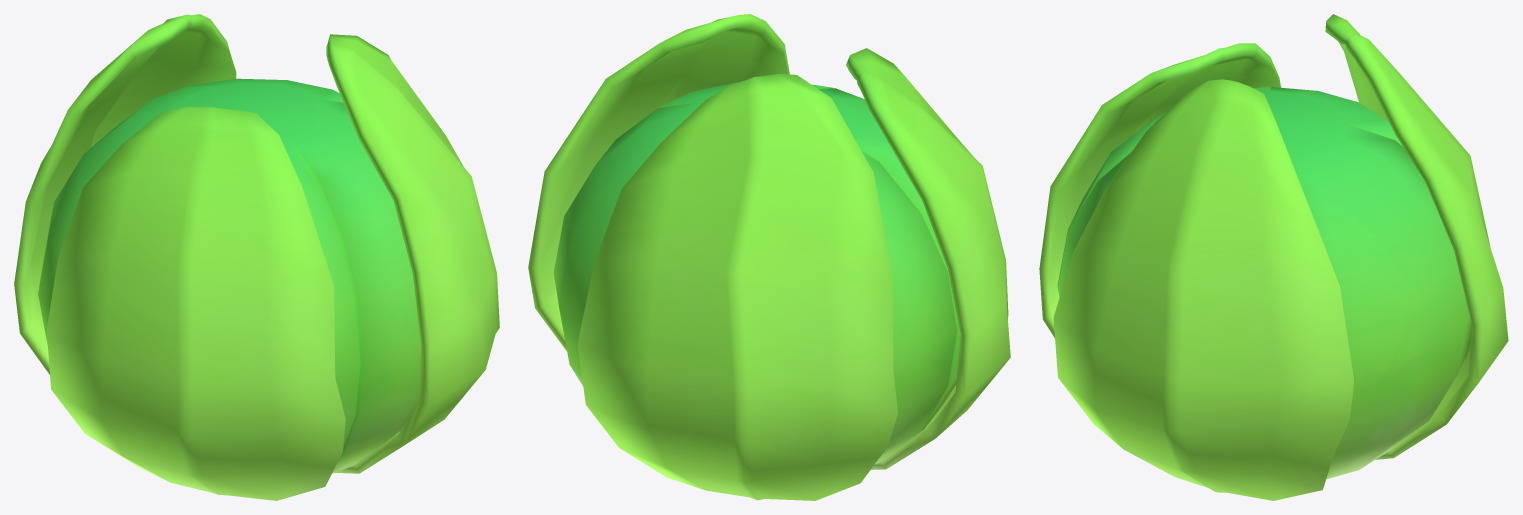
The model's file is lettuce.glb.
3 renders of one model, left to right at view 1: azimuth 30°, elevation 25°; view 2: azimuth 150°, elevation 25°; view 3: azimuth 270°, elevation 25°, orthographic. The views are drawn at different scales.
Visible parts, largest first — view 1: Lettuce; view 2: Lettuce; view 3: Lettuce.
Part boxes in pixels (bbox=[...]): Lettuce: bbox=[14, 14, 499, 500]; Lettuce: bbox=[528, 14, 1010, 500]; Lettuce: bbox=[1039, 14, 1508, 500].
Size of what is drawn, in the model's own units: 1.23 by 1.23 by 1.24.
1 material, 1 textured.
